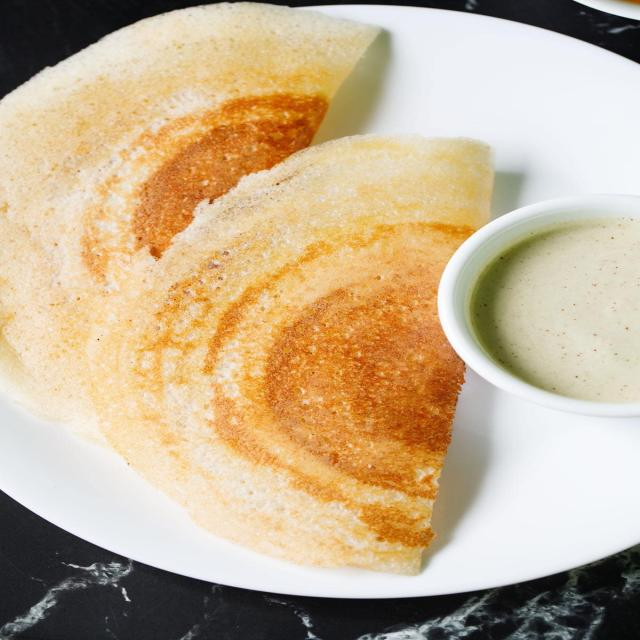plain dosa: (132, 121, 477, 589), (7, 10, 365, 388)
